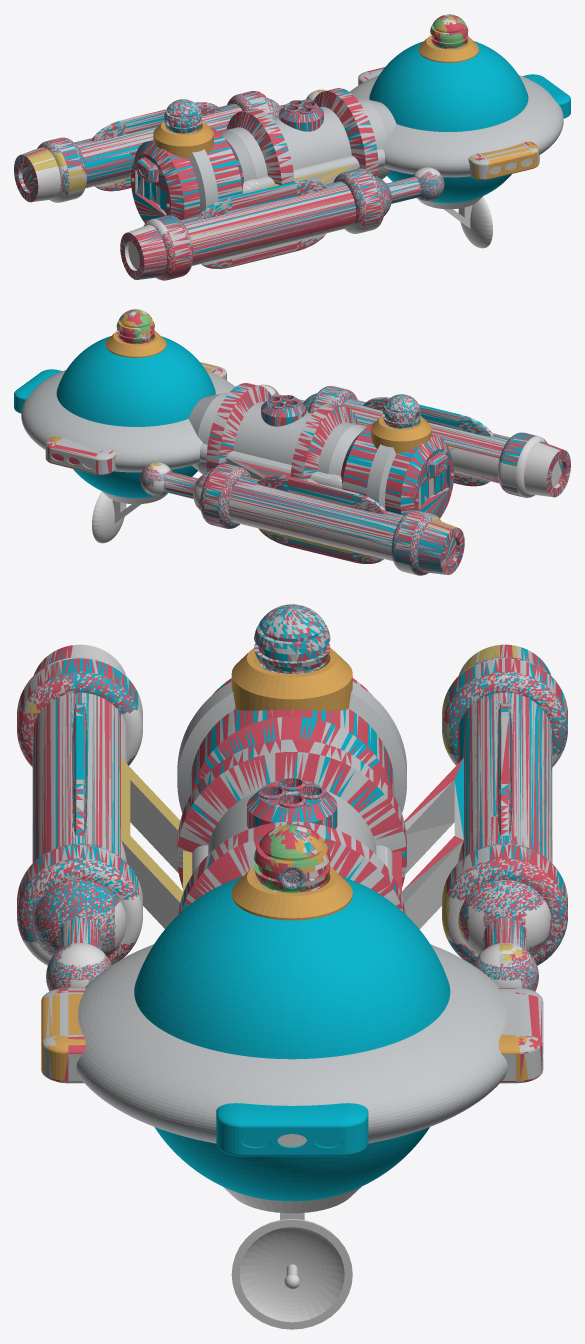
Rendered from Earth Destroyer v2.0.glb.
The picture shows the model from 3 angles, top to bottom: view 1: azimuth 30°, elevation 25°; view 2: azimuth 150°, elevation 25°; view 3: azimuth 270°, elevation 25°; orthographic projection. The views are drawn at different scales.
Visible parts, largest first — view 1: Mesh_Mesh_head_geo.001_lambert2SG.001; view 2: Mesh_Mesh_head_geo.001_lambert2SG.001; view 3: Mesh_Mesh_head_geo.001_lambert2SG.001.
Boxes of the visible parts, x1,y1,x2,y2 form: Mesh_Mesh_head_geo.001_lambert2SG.001: (14,14,570,280); Mesh_Mesh_head_geo.001_lambert2SG.001: (14,309,570,575); Mesh_Mesh_head_geo.001_lambert2SG.001: (17,604,567,1329).
Size of the model in its own units: 100 by 47.5 by 50.06.
